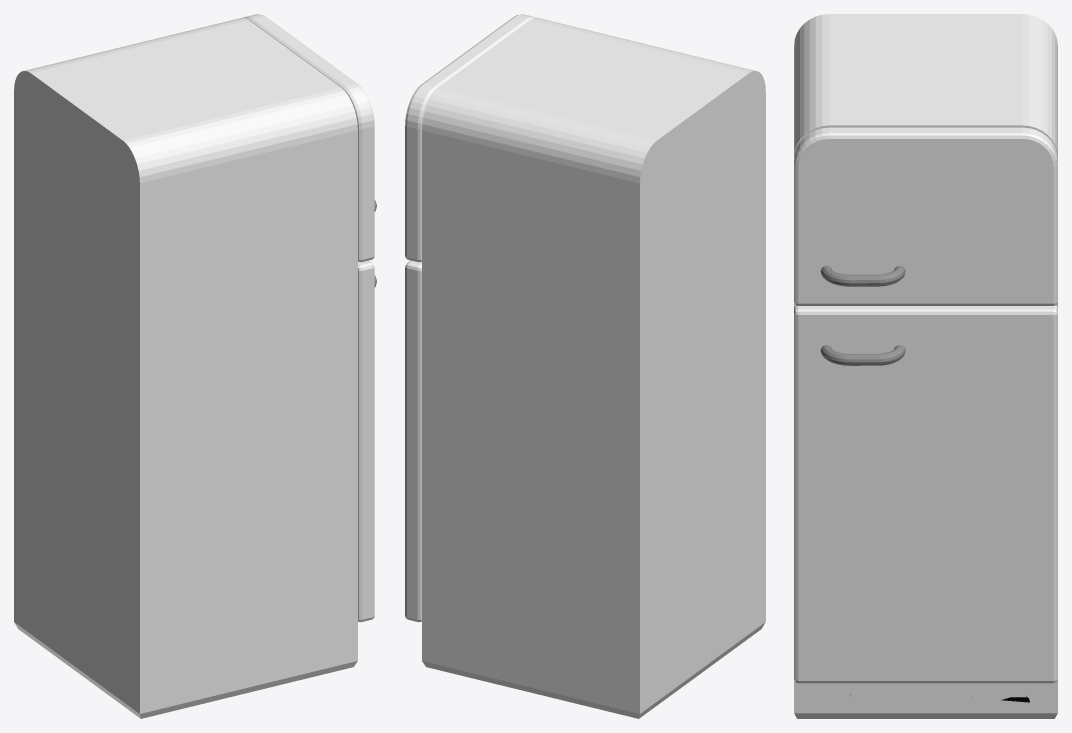
Rendered from Nevera.fbx.
The picture shows the model from 3 angles, left to right: view 1: azimuth 30°, elevation 25°; view 2: azimuth 150°, elevation 25°; view 3: azimuth 270°, elevation 25°; orthographic projection. The views are drawn at different scales.
Parts seen in each view (by area): view 1: Body, Cube.001, Cube.002; view 2: Body, Cube.001, Cube.002; view 3: Cube.001, Cube.002, Body, Torus, Torus.001.
Boxes of the visible parts, <box> form: Body: <box>14,17,357,718</box>; Cube.001: <box>358,260,374,622</box>; Cube.002: <box>243,14,374,262</box>; Body: <box>422,17,765,718</box>; Cube.001: <box>405,260,421,622</box>; Cube.002: <box>405,14,536,262</box>; Cube.001: <box>794,305,1057,683</box>; Cube.002: <box>794,127,1057,305</box>; Body: <box>794,14,1057,718</box>; Torus: <box>820,265,905,286</box>; Torus.001: <box>820,345,905,365</box>.
Bounding box in the file's own units: 60 × 71.58 × 150.
